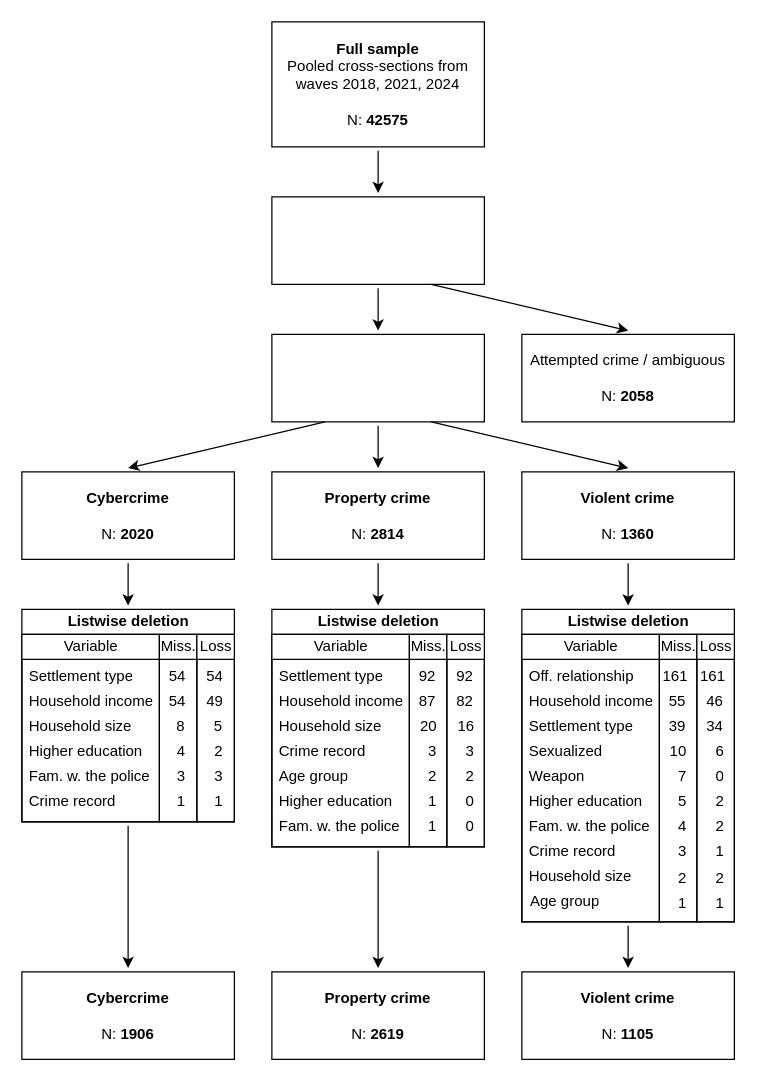
This 759x1081 diagram has some shape labels left out. Here are the shapes that lost their labels. From the top down, the box of each, then its label:
(271, 196, 484, 284): Victims only N: 8252
(271, 333, 484, 422): Crime class defined N: 6194
